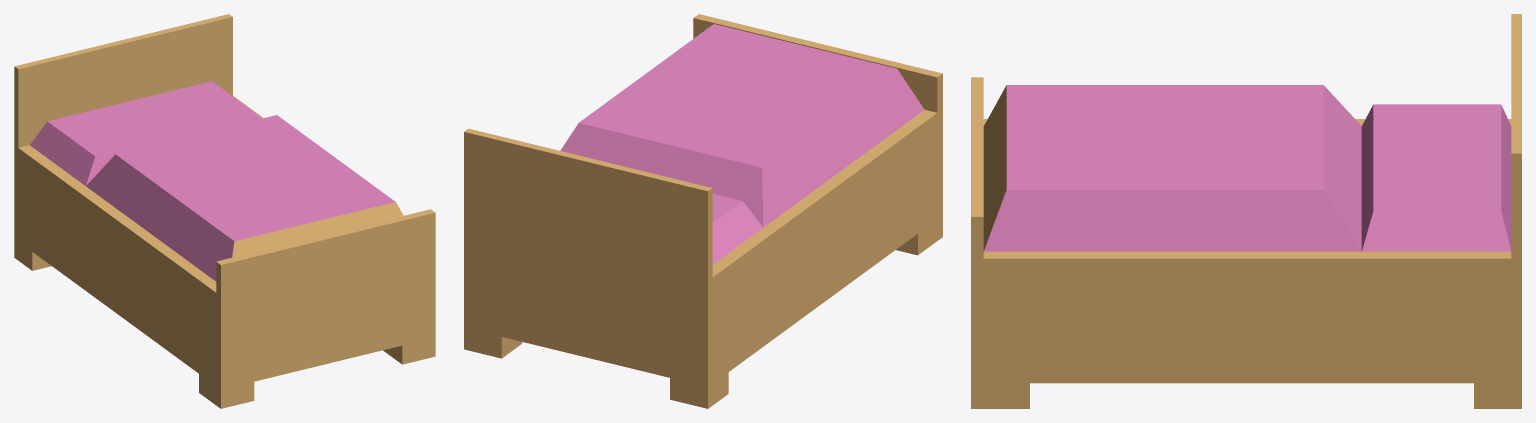
File: Bed.glb
3 renders of one model, left to right at view 1: azimuth 30°, elevation 25°; view 2: azimuth 150°, elevation 25°; view 3: azimuth 270°, elevation 25°, orthographic. The views are drawn at different scales.
Visible parts, largest first — view 1: Cube; view 2: Cube; view 3: Cube.
Part boxes in pixels (x1=…): Cube: x1=14, y1=14, x2=435, y2=408; Cube: x1=464, y1=14, x2=942, y2=408; Cube: x1=971, y1=14, x2=1521, y2=408.
Size of the model in its own units: 1.2 by 1.02 by 2.
